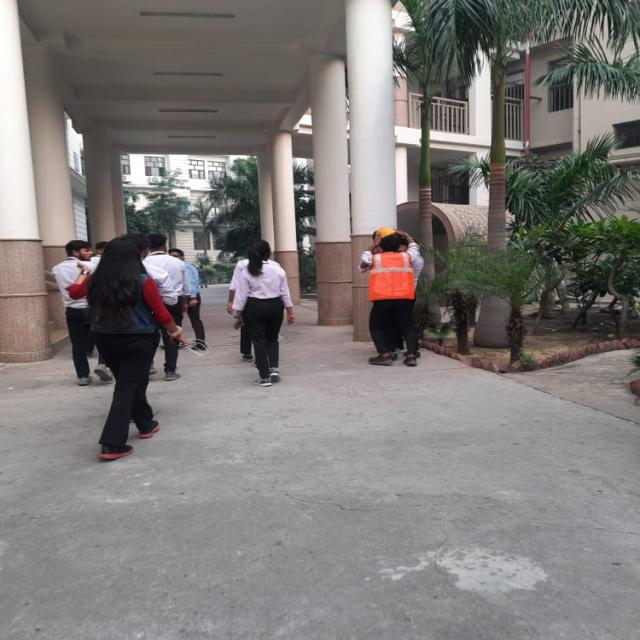safe: (363, 227, 419, 366)
unsafe: (78, 240, 180, 459), (235, 242, 294, 386), (54, 240, 110, 385), (147, 235, 183, 380)
